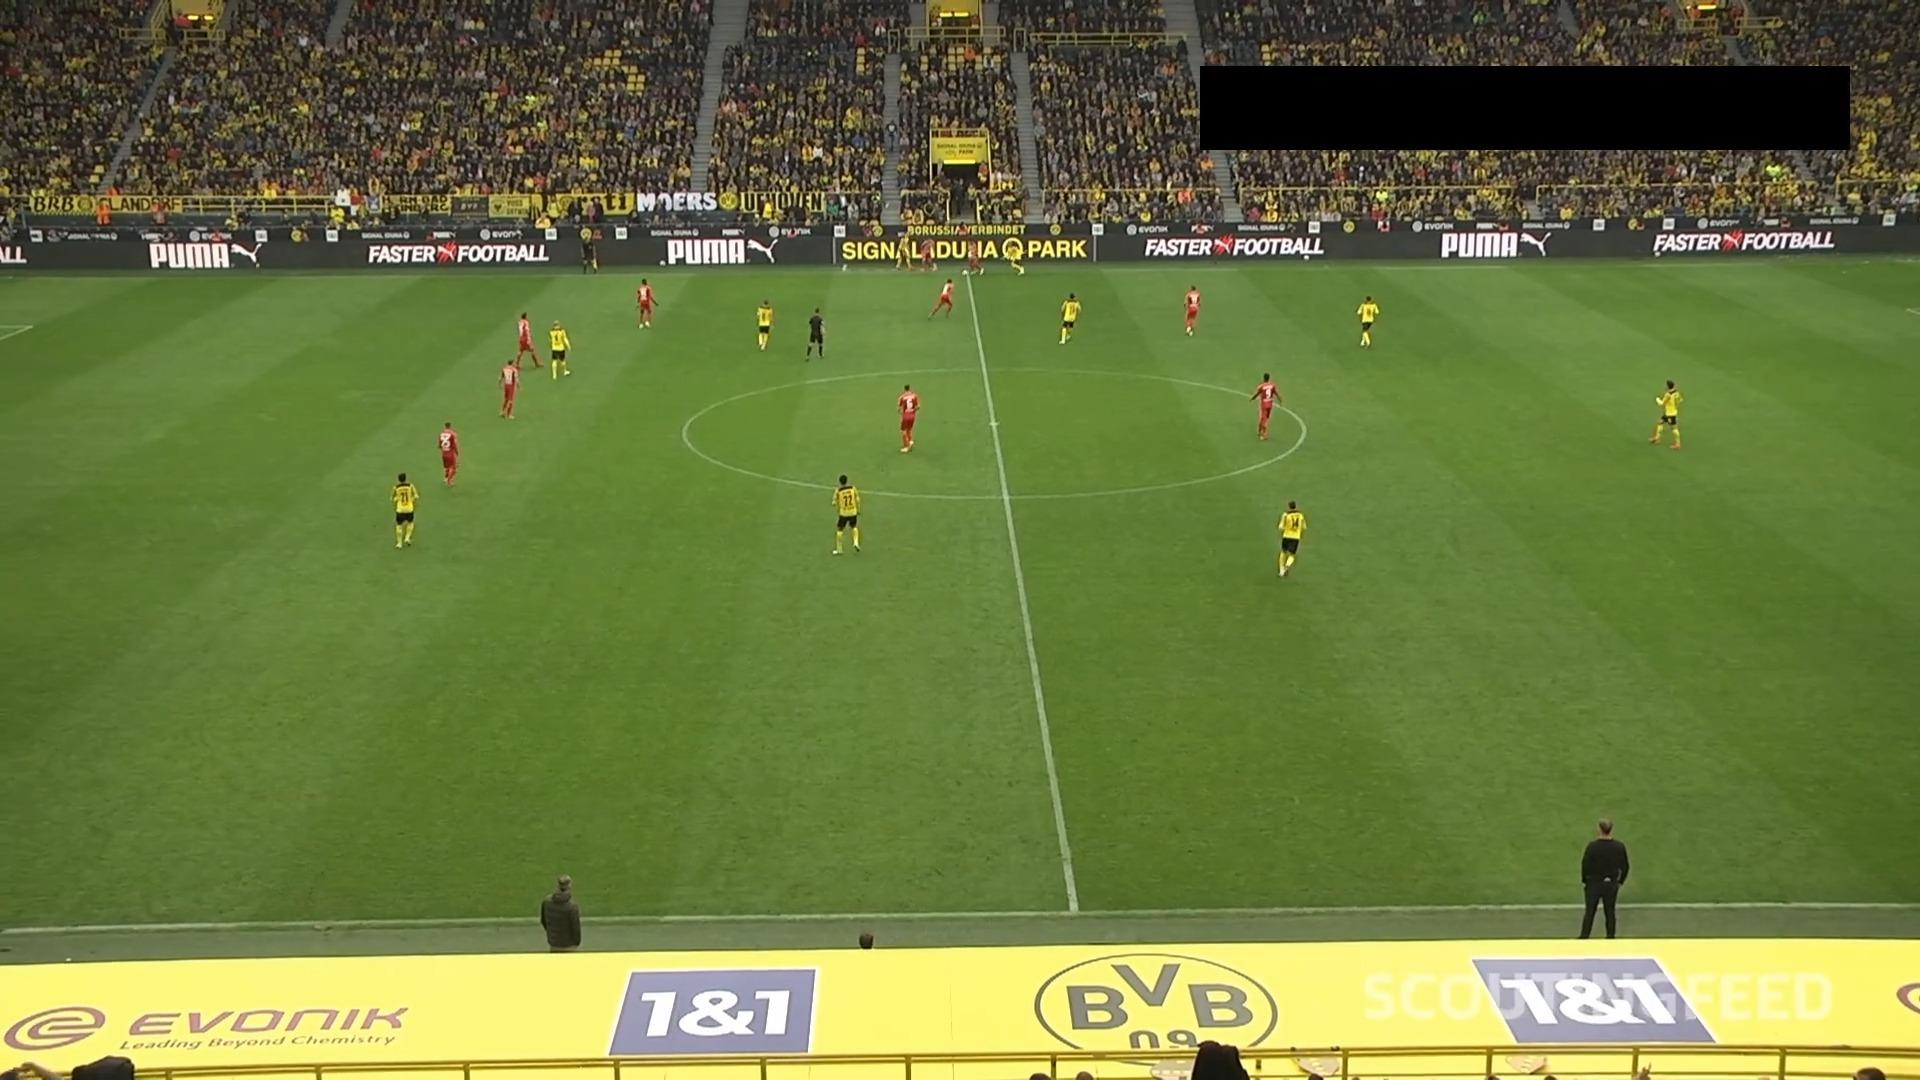ball: (961, 268, 969, 277)
